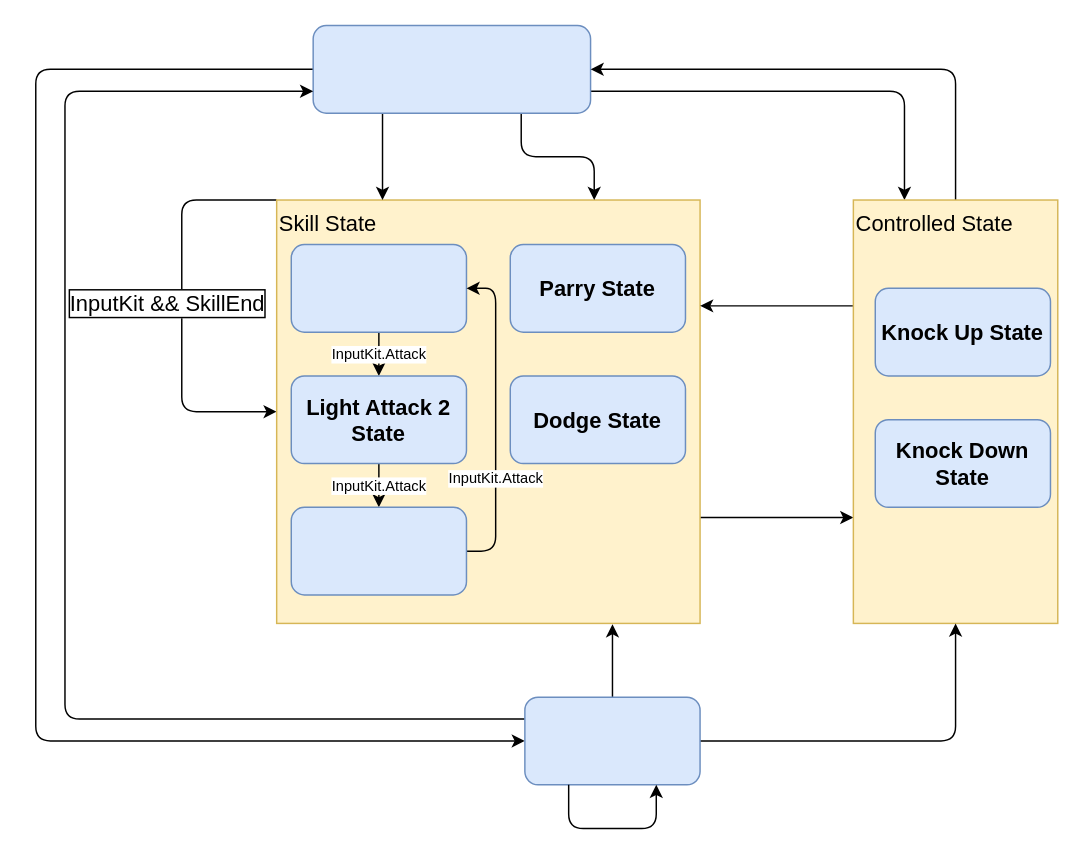
Image size: 1083x866. Some labels were removed from this diagram. Here are the shapes that lost their labels. From the top down, the centre of each, then its label:
the point at 451,68: Ground State
the point at 378,287: Light Attack 1 State
the point at 378,550: Light Attack 3 State
the point at 611,740: Hurt State
